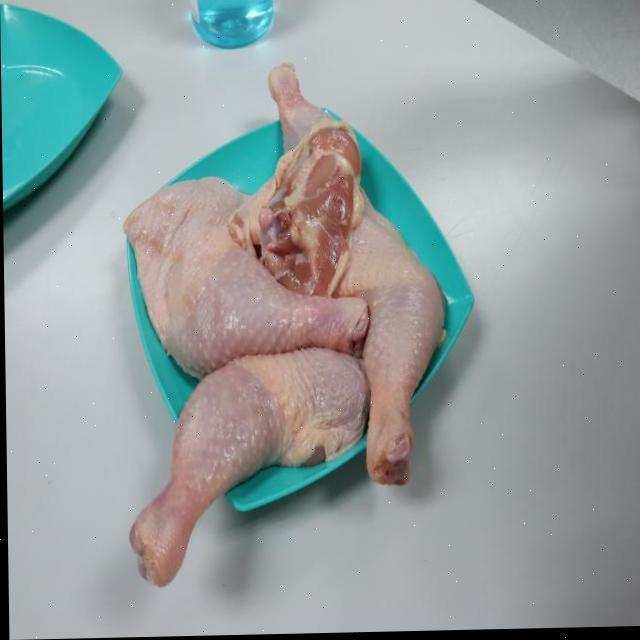quater: (132, 366, 366, 576), (110, 174, 360, 369), (311, 185, 442, 492), (250, 67, 364, 292)
